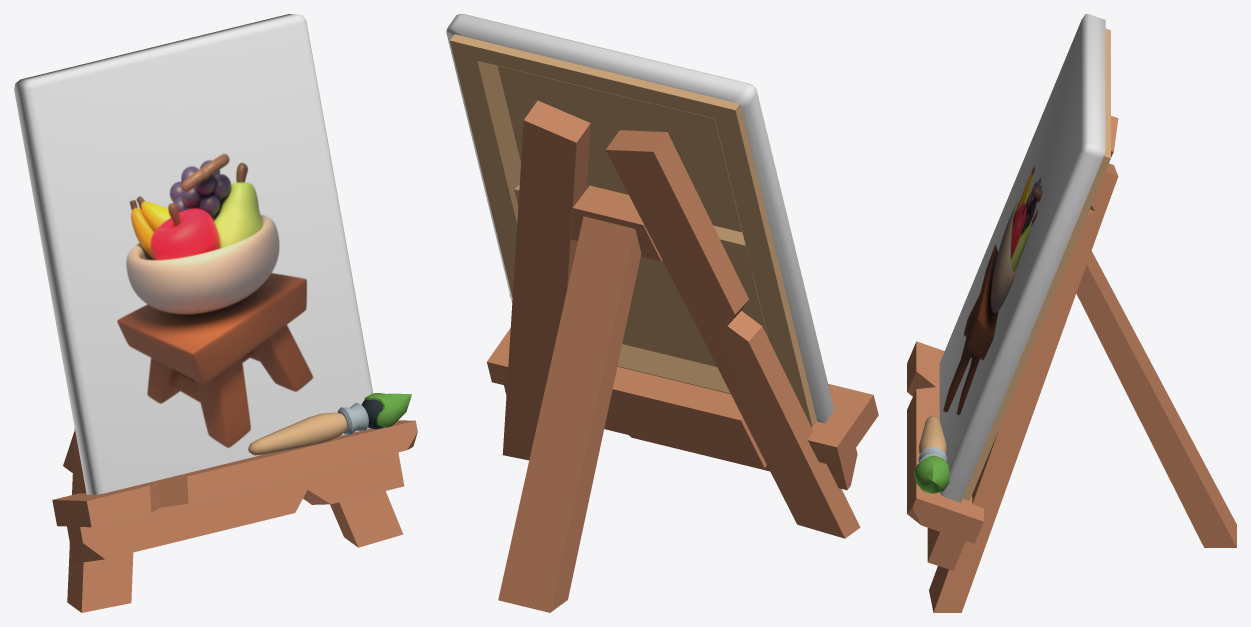
The model's file is easel_with_painting.gltf.
3 renders of one model, left to right at view 1: azimuth 30°, elevation 25°; view 2: azimuth 150°, elevation 25°; view 3: azimuth 270°, elevation 25°, orthographic. The views are drawn at different scales.
Visible parts, largest first — view 1: easel_painting_textured, easel_with_painting, easel_paintbrush; view 2: easel_with_painting, easel_painting_textured; view 3: easel_painting_textured, easel_with_painting, easel_paintbrush.
Part boxes in pixels (left/top/right/bottom): easel_painting_textured: left=14, top=14, right=372, bottom=494; easel_with_painting: left=52, top=420, right=417, bottom=612; easel_paintbrush: left=248, top=393, right=411, bottom=455; easel_with_painting: left=487, top=100, right=878, bottom=612; easel_painting_textured: left=446, top=14, right=834, bottom=426; easel_painting_textured: left=939, top=14, right=1110, bottom=502; easel_with_painting: left=907, top=116, right=1236, bottom=612; easel_paintbrush: left=914, top=415, right=949, bottom=493.
Bounding box in the file's own units: 1.4 × 1.88 × 1.23.
7 materials, 1 textured.
